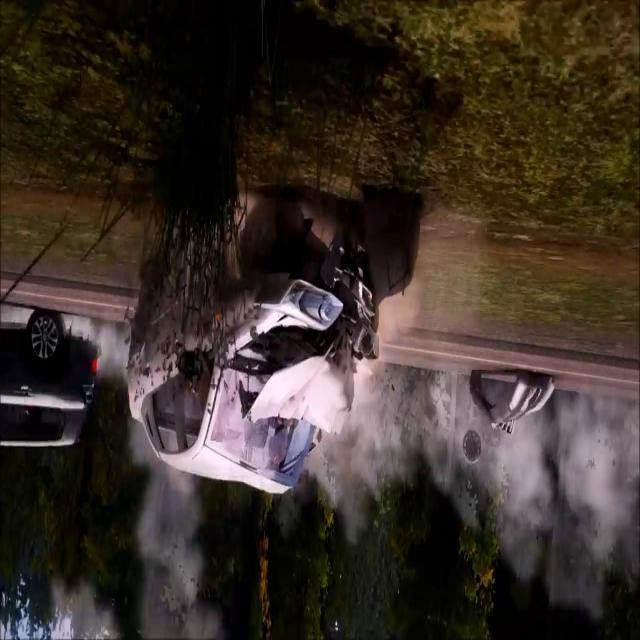severe: (122, 196, 385, 504)
